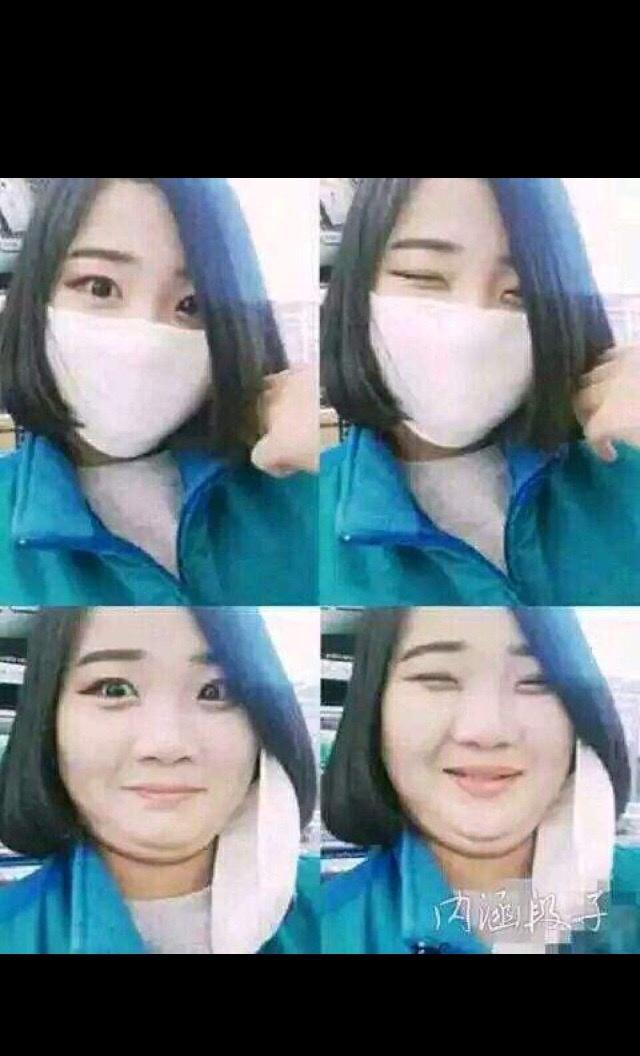NONE: (357, 625, 598, 866), (32, 628, 271, 867)
OK: (27, 229, 267, 469), (342, 222, 572, 452)
